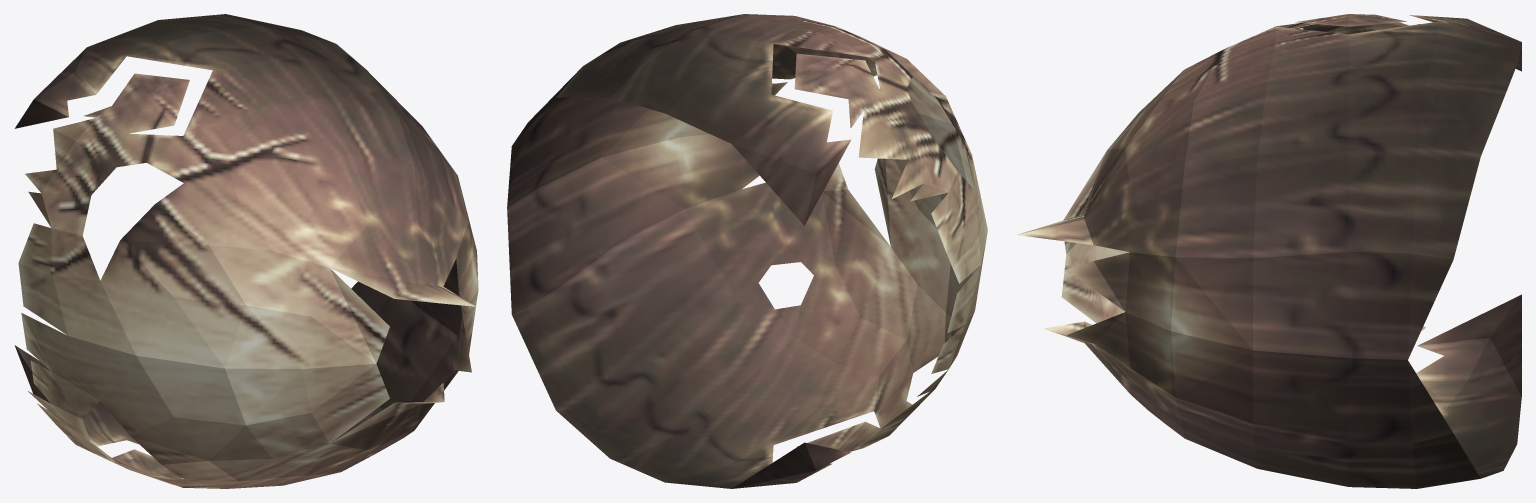
3 views of the same model, side by side, from view 1: azimuth 30°, elevation 25°; view 2: azimuth 150°, elevation 25°; view 3: azimuth 270°, elevation 25° (orthographic). The views are drawn at different scales.
Visible parts, largest first — view 1: M_0001_1b_0; view 2: M_0001_1b_0; view 3: M_0001_1b_0.
Boxes of the visible parts, left/top/right/bottom form: M_0001_1b_0: left=14, top=14, right=478, bottom=488; M_0001_1b_0: left=507, top=14, right=987, bottom=488; M_0001_1b_0: left=1017, top=14, right=1521, bottom=488.
Size of the model in its own units: 0.999 by 0.9 by 0.999.
Materials: 1 (1 with a texture image).
